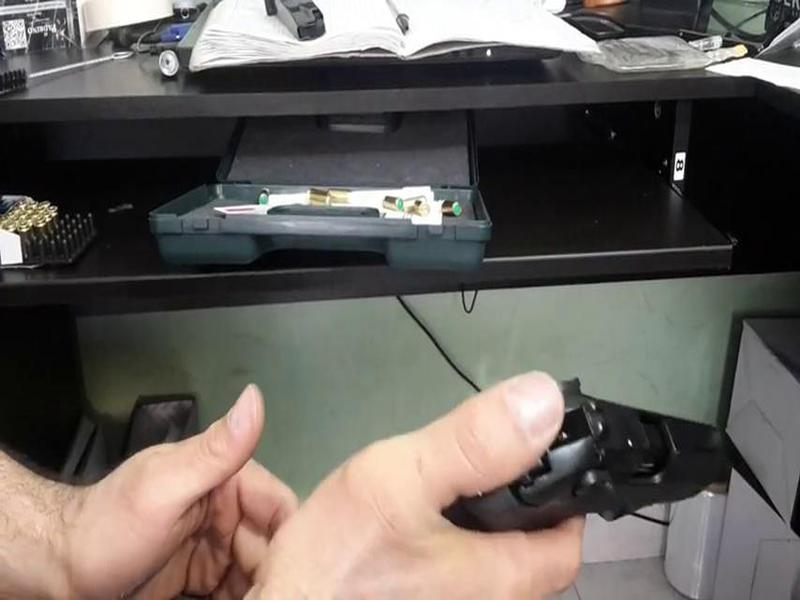Pistola: (440, 344, 763, 574)
